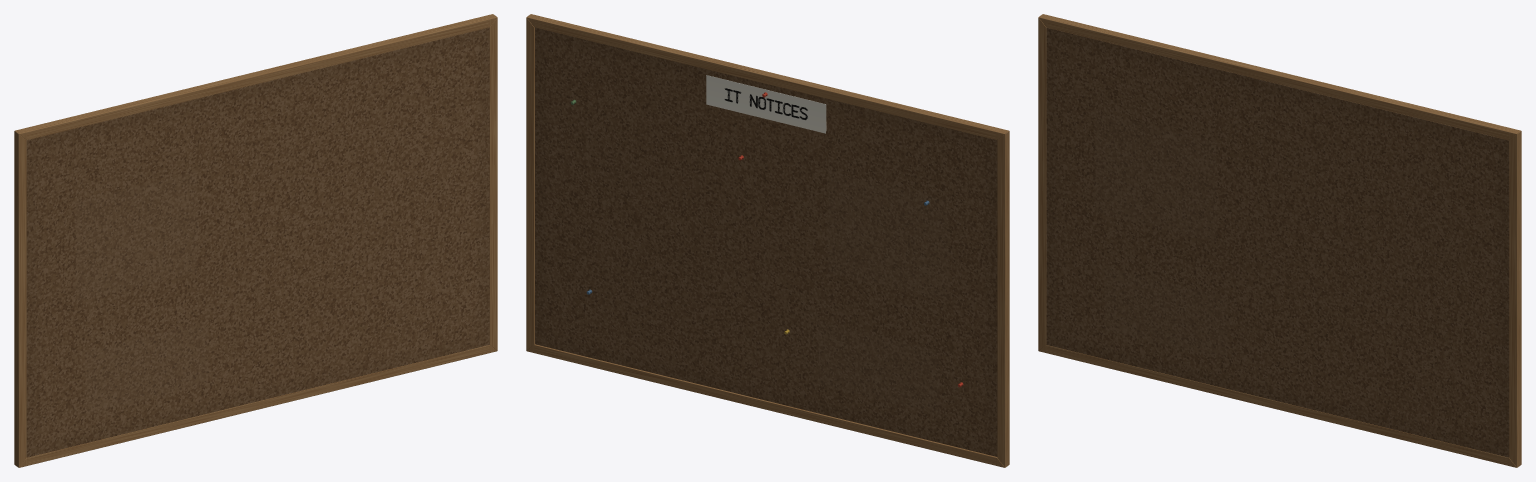
File: pinboard_cork.glb
3 views of the same model, side by side, from view 1: azimuth 30°, elevation 25°; view 2: azimuth 150°, elevation 25°; view 3: azimuth 330°, elevation 25° (orthographic).
Parts seen in each view (by area): view 1: board; view 2: board, header_card; view 3: board.
Part boxes in pixels (<box>): board: <box>14,14,497,467</box>; board: <box>526,14,1009,467</box>; header_card: <box>706,75,826,133</box>; board: <box>1038,14,1521,467</box>.
Bounding box in the file's own units: 1.2 × 0.8 × 0.0293.
4 materials, 4 textured.
